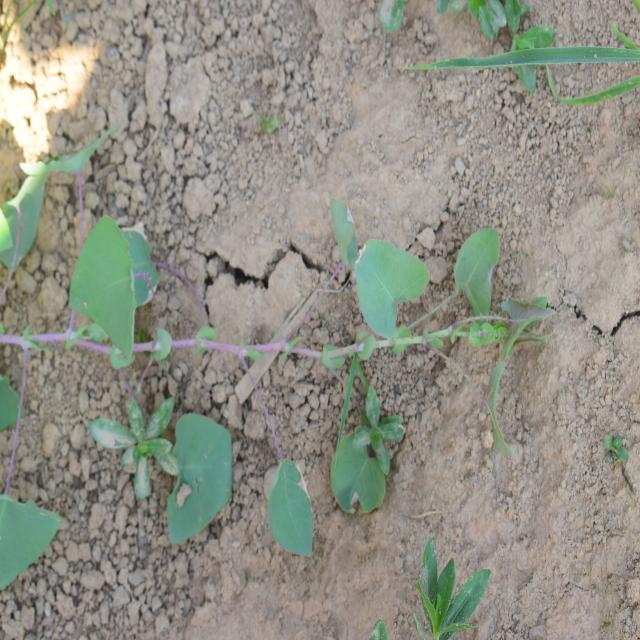Asiatic_Smartweed: (324, 204, 542, 428), (52, 199, 164, 352)
